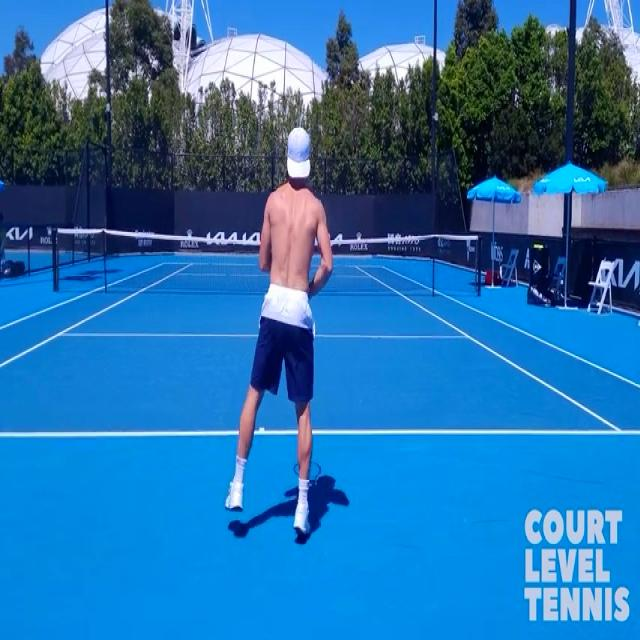ready-position: (226, 121, 331, 537)
